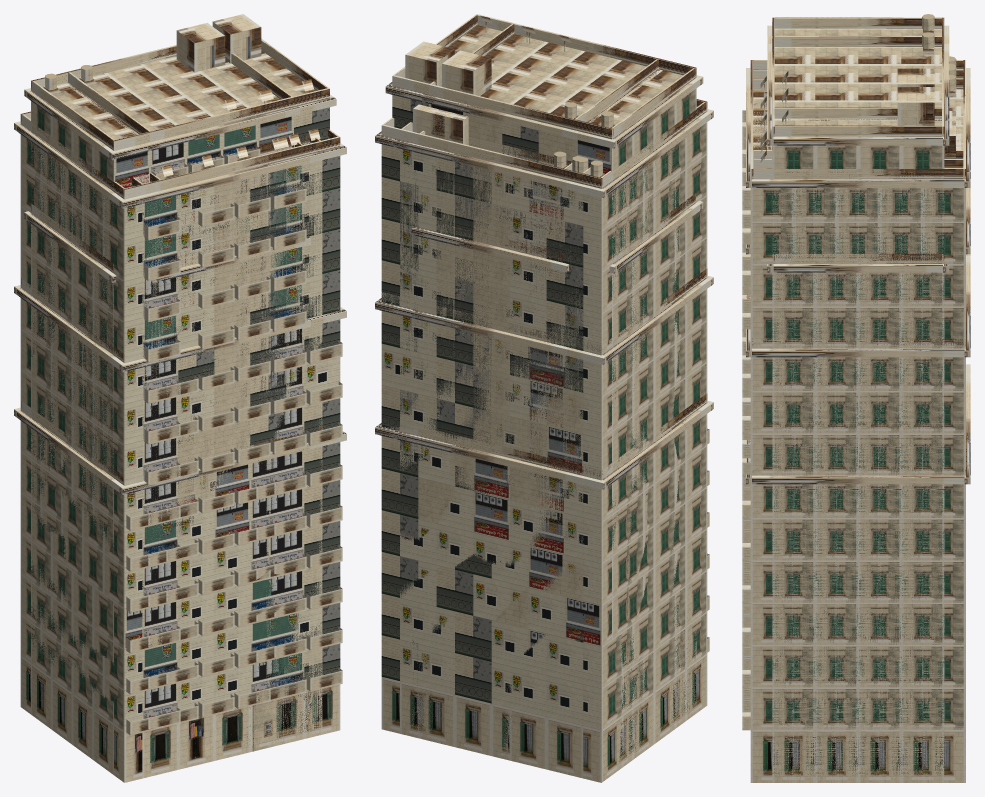
The picture shows the model from 3 angles, left to right: view 1: azimuth 30°, elevation 25°; view 2: azimuth 150°, elevation 25°; view 3: azimuth 270°, elevation 25°; orthographic projection. The views are drawn at different scales.
Visible parts, largest first — view 1: Khedivial_6x5_f13_v1, Khedivial_5x5_f13_v1, Khedivial_5x5_f6_v1, Khedivial_6x4_f11_v1, Khedivial_4x4_f14_v1, Khedivial_6x4_f14_v1, Khedivial_6x5_f6_v0, Khedivial_4x5_f11_v0, Khedivial_6x5_f9_v0, Khedivial_4x5_f9_v0, Khedivial_4x5_f13_v1; view 2: Khedivial_6x5_f13_v1, Khedivial_5x5_f13_v1, Khedivial_5x5_f6_v1, Khedivial_6x4_f11_v1, Khedivial_4x4_f14_v1, Khedivial_6x4_f14_v1, Khedivial_6x5_f9_v0, Khedivial_6x5_f6_v0, Khedivial_4x5_f13_v1, Khedivial_4x5_f11_v0, Khedivial_4x5_f9_v0, Khedivial_5x4_f13_v0; view 3: Khedivial_6x4_f11_v1, Khedivial_6x5_f13_v1, Khedivial_6x4_f14_v1, Khedivial_4x4_f14_v1, Khedivial_6x5_f6_v0, Khedivial_6x5_f9_v0, Khedivial_5x5_f13_v1, Khedivial_4x5_f13_v1, Khedivial_5x5_f6_v1.
Part boxes in pixels (left/top/right/bottom): Khedivial_6x5_f13_v1: left=14, top=111, right=346, bottom=782; Khedivial_5x5_f13_v1: left=132, top=133, right=328, bottom=485; Khedivial_5x5_f6_v1: left=139, top=428, right=328, bottom=778; Khedivial_6x4_f11_v1: left=24, top=203, right=116, bottom=774; Khedivial_4x4_f14_v1: left=66, top=23, right=300, bottom=179; Khedivial_6x4_f14_v1: left=24, top=14, right=336, bottom=265; Khedivial_6x5_f6_v0: left=14, top=401, right=346, bottom=735; Khedivial_4x5_f11_v0: left=156, top=229, right=310, bottom=717; Khedivial_6x5_f9_v0: left=14, top=278, right=346, bottom=446; Khedivial_4x5_f9_v0: left=158, top=313, right=310, bottom=723; Khedivial_4x5_f13_v1: left=150, top=136, right=310, bottom=267; Khedivial_6x5_f13_v1: left=375, top=99, right=713, bottom=782; Khedivial_5x5_f13_v1: left=393, top=104, right=590, bottom=475; Khedivial_5x5_f6_v1: left=393, top=426, right=586, bottom=778; Khedivial_6x4_f11_v1: left=609, top=193, right=703, bottom=769; Khedivial_4x4_f14_v1: left=422, top=23, right=662, bottom=165; Khedivial_6x4_f14_v1: left=385, top=14, right=703, bottom=260; Khedivial_6x5_f9_v0: left=375, top=268, right=713, bottom=364; Khedivial_6x5_f6_v0: left=375, top=393, right=713, bottom=652; Khedivial_4x5_f13_v1: left=412, top=109, right=572, bottom=188; Khedivial_4x5_f11_v0: left=411, top=218, right=568, bottom=272; Khedivial_4x5_f9_v0: left=411, top=303, right=568, bottom=355; Khedivial_5x4_f13_v0: left=412, top=123, right=590, bottom=168; Khedivial_6x4_f11_v1: left=767, top=253, right=949, bottom=782; Khedivial_6x5_f13_v1: left=742, top=56, right=970, bottom=782; Khedivial_6x4_f14_v1: left=767, top=14, right=949, bottom=263; Khedivial_4x4_f14_v1: left=763, top=32, right=949, bottom=141; Khedivial_6x5_f6_v0: left=742, top=364, right=970, bottom=730; Khedivial_6x5_f9_v0: left=742, top=254, right=970, bottom=476; Khedivial_5x5_f13_v1: left=742, top=66, right=970, bottom=171; Khedivial_4x5_f13_v1: left=742, top=74, right=970, bottom=158; Khedivial_5x5_f6_v1: left=742, top=373, right=970, bottom=698.
Bounding box in the file's own units: 21.8 × 60.7 × 18.6.
1 material, 1 textured.
